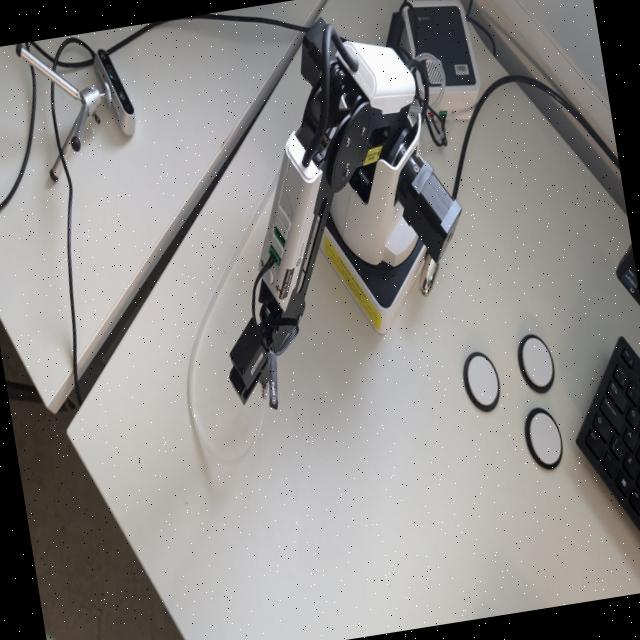Robot-end-effector-HF8z: (217, 309, 285, 433)
